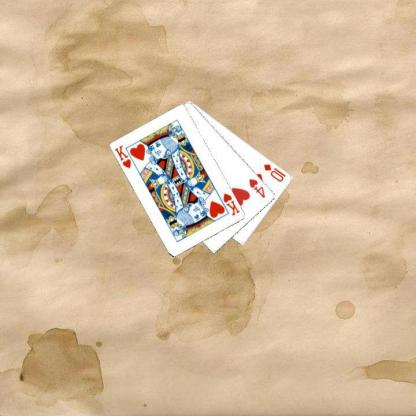10D: (261, 161, 287, 183)
4H: (247, 176, 267, 200)
KH: (113, 143, 133, 170), (221, 191, 241, 217)
